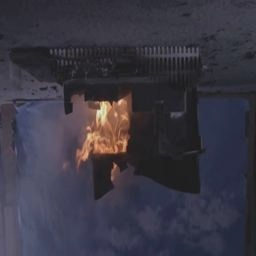fire: (73, 90, 141, 180)
